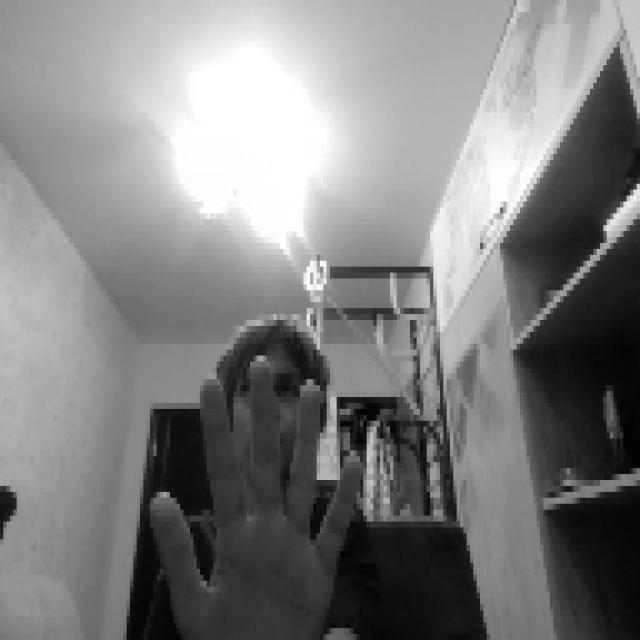hand: (147, 344, 360, 628)
